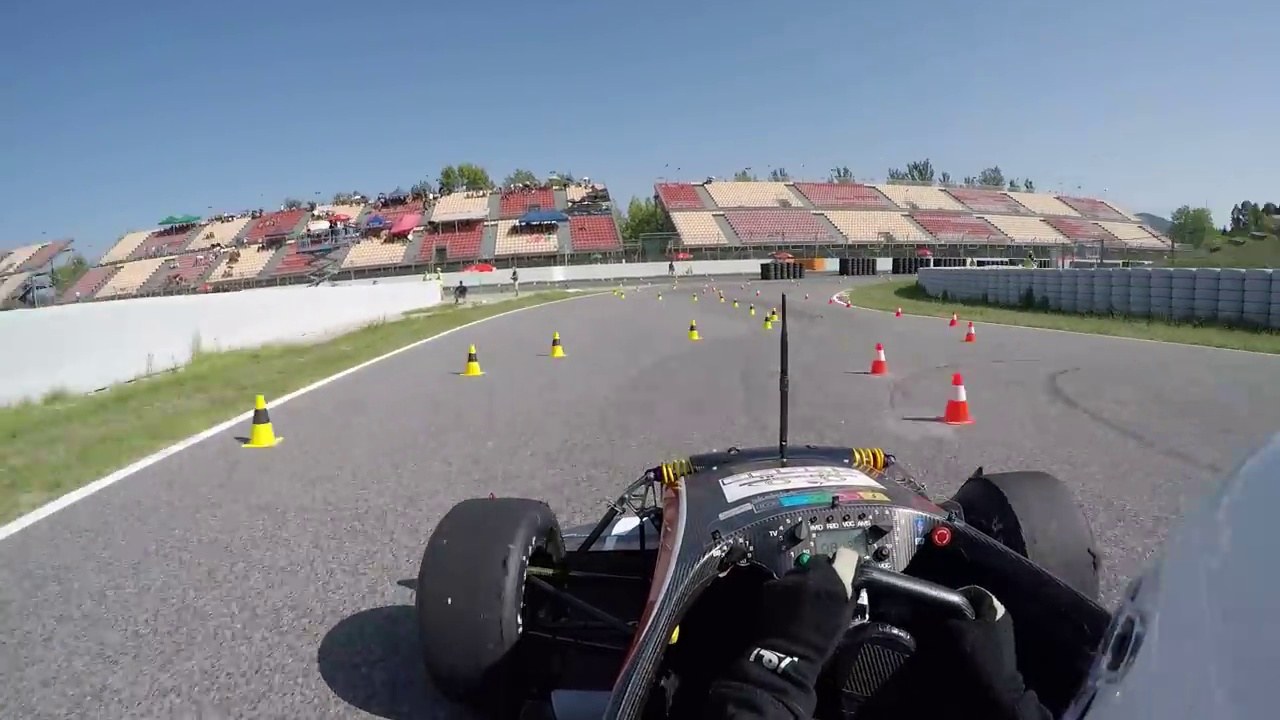Cone: (245, 394, 284, 449), (936, 372, 975, 426), (867, 343, 890, 376), (463, 344, 484, 376), (549, 330, 566, 359)
